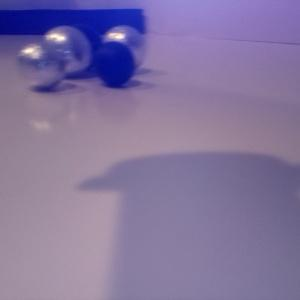alive_ball: (42, 25, 92, 74), (16, 42, 65, 88), (101, 25, 147, 70)
dead_ball: (92, 43, 136, 88), (60, 24, 103, 69)
